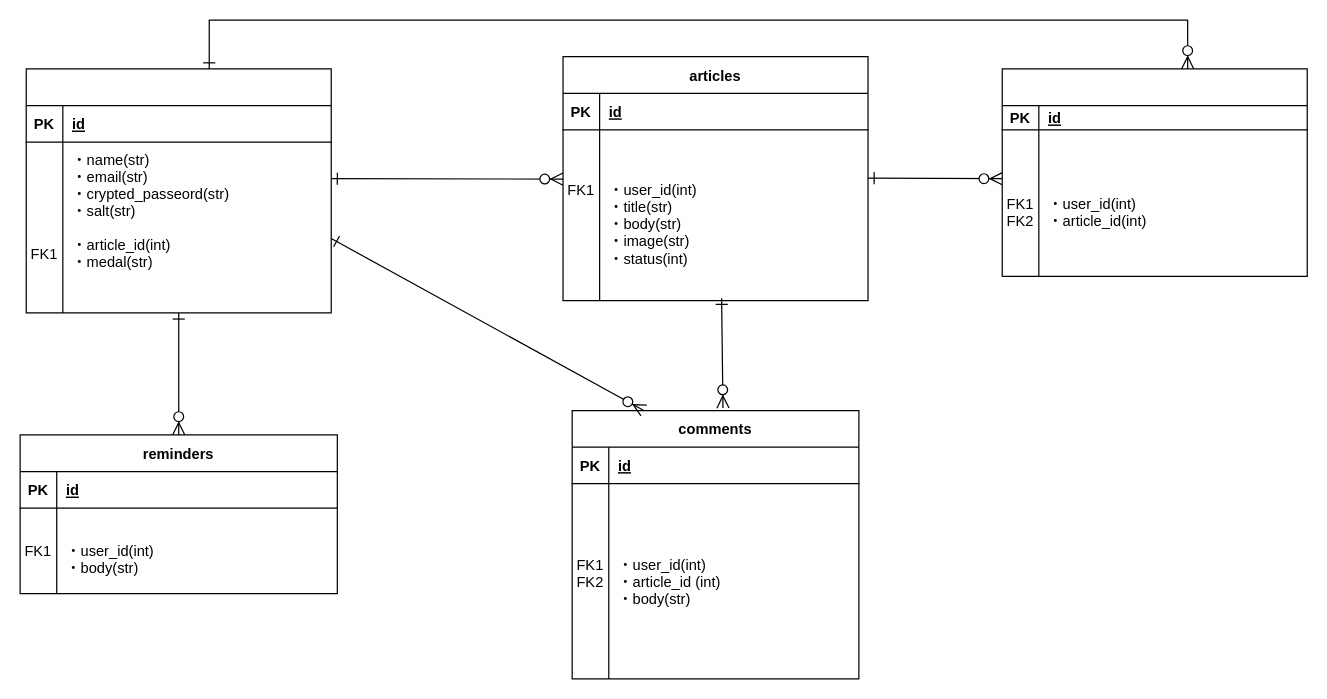
Image size: 1327x699. Some labels were removed from this diagram. Here are the shapes that lost their labels. From the top down, the box of each, then its label:
(25, 68, 331, 313): users
(1001, 68, 1307, 276): favorites
